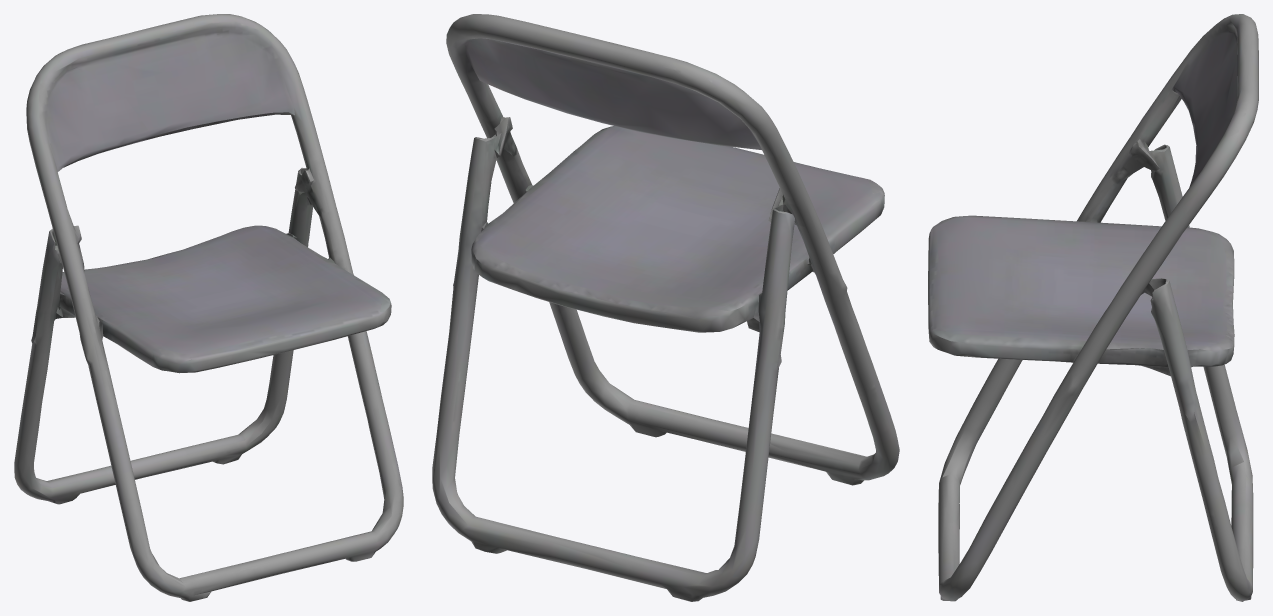
The model's file is pipechair.glb.
The picture shows the model from 3 angles, left to right: view 1: azimuth 30°, elevation 25°; view 2: azimuth 150°, elevation 25°; view 3: azimuth 270°, elevation 25°; orthographic projection. The views are drawn at different scales.
Visible parts, largest first — view 1: pipechair; view 2: pipechair; view 3: pipechair.
Boxes of the visible parts, bbox=[...] form: pipechair: bbox=[14, 14, 403, 601]; pipechair: bbox=[432, 14, 899, 601]; pipechair: bbox=[928, 14, 1258, 601].
Size of the model in its own units: 0.5104 by 0.8 by 0.4854.
1 material, 1 textured.
